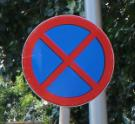No Parking: (23, 16, 116, 107)
